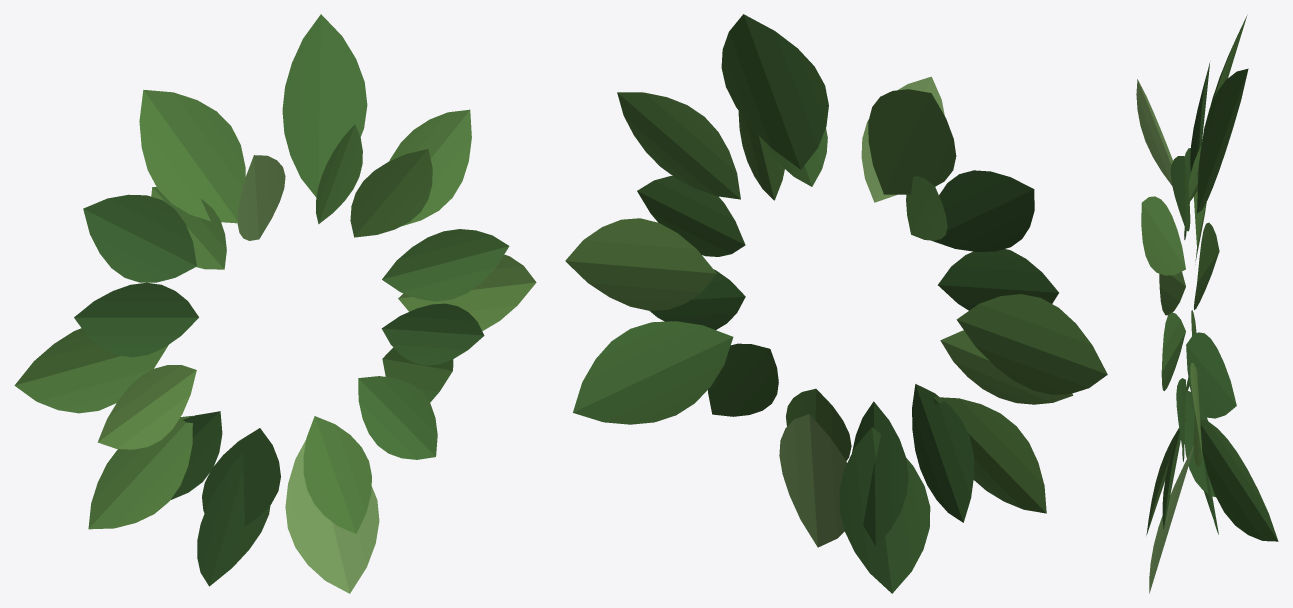
Rendered from leaves.glb.
3 renders of one model, left to right at view 1: azimuth 30°, elevation 25°; view 2: azimuth 150°, elevation 25°; view 3: azimuth 270°, elevation 25°, orthographic. The views are drawn at different scales.
Parts seen in each view (by area): view 1: Leaf0_3, Leaf0_2, Leaf0_4, Leaf0_5, Leaf0_6, Leaf1_5, Leaf0_8, Leaf1_0, Leaf1_9, Leaf1_6, Leaf1_10, Leaf1_1 (+10 smaller); view 2: Leaf0_9, Leaf0_2, Leaf0_5, Leaf0_0, Leaf0_1, Leaf0_3, Leaf0_7, Leaf0_4, Leaf0_6, Leaf0_8, Leaf1_7, Leaf1_0 (+10 smaller); view 3: Leaf0_9, Leaf0_2, Leaf1_7, Leaf1_1, Leaf1_3, Leaf1_0, Leaf0_8, Leaf1_8, Leaf0_1, Leaf1_2, Leaf1_6, Leaf0_4 (+8 smaller).
Boxes of the visible parts, x1=… form: Leaf0_3: x1=139, y1=89, x2=245, y2=223; Leaf0_2: x1=282, y1=14, x2=367, y2=197; Leaf0_4: x1=83, y1=194, x2=196, y2=282; Leaf0_5: x1=14, y1=328, x2=168, y2=413; Leaf0_6: x1=88, y1=415, x2=192, y2=529; Leaf1_5: x1=74, y1=282, x2=198, y2=357; Leaf0_8: x1=285, y1=439, x2=379, y2=593; Leaf1_0: x1=382, y1=229, x2=509, y2=301; Leaf1_9: x1=303, y1=416, x2=371, y2=533; Leaf1_6: x1=97, y1=365, x2=196, y2=449; Leaf1_10: x1=358, y1=376, x2=437, y2=459; Leaf1_1: x1=350, y1=149, x2=432, y2=237; Leaf0_9: x1=573, y1=321, x2=733, y2=424; Leaf0_2: x1=721, y1=14, x2=828, y2=169; Leaf0_5: x1=956, y1=294, x2=1107, y2=394; Leaf0_0: x1=565, y1=218, x2=716, y2=310; Leaf0_1: x1=617, y1=92, x2=740, y2=199; Leaf0_3: x1=868, y1=89, x2=956, y2=194; Leaf0_7: x1=839, y1=427, x2=930, y2=593; Leaf0_4: x1=928, y1=170, x2=1034, y2=251; Leaf0_6: x1=933, y1=397, x2=1046, y2=513; Leaf0_8: x1=779, y1=414, x2=846, y2=547; Leaf1_7: x1=912, y1=384, x2=974, y2=522; Leaf1_0: x1=637, y1=176, x2=745, y2=256; Leaf0_9: x1=1200, y1=419, x2=1278, y2=541; Leaf0_2: x1=1197, y1=68, x2=1248, y2=213; Leaf1_7: x1=1186, y1=332, x2=1236, y2=418; Leaf1_1: x1=1141, y1=196, x2=1185, y2=275; Leaf1_3: x1=1136, y1=79, x2=1172, y2=185; Leaf1_0: x1=1161, y1=312, x2=1185, y2=390; Leaf0_8: x1=1149, y1=445, x2=1193, y2=593; Leaf1_8: x1=1184, y1=390, x2=1215, y2=496; Leaf0_1: x1=1194, y1=222, x2=1219, y2=309; Leaf1_2: x1=1170, y1=156, x2=1190, y2=231; Leaf1_6: x1=1159, y1=271, x2=1185, y2=315; Leaf0_4: x1=1190, y1=61, x2=1210, y2=171.
Size of the model in its own units: 2.73 by 2.71 by 0.6517.
